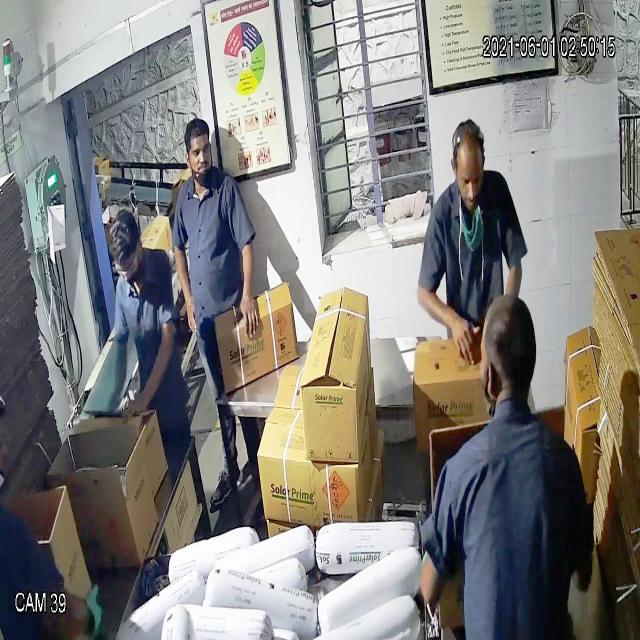glasses: (109, 248, 143, 285)
no-glass: (179, 135, 219, 172), (447, 161, 489, 196)
